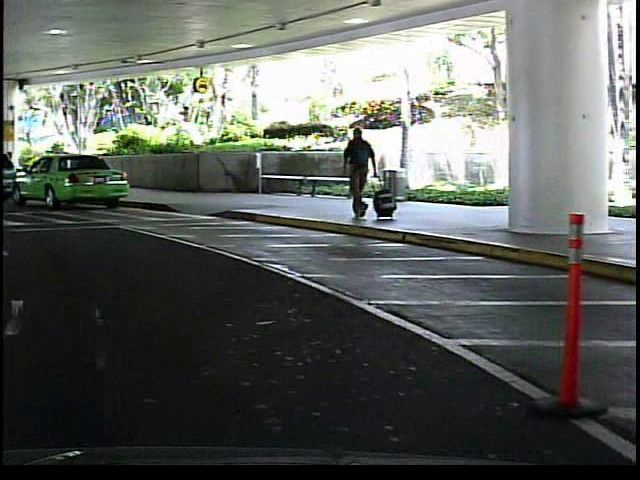person: (335, 119, 379, 229)
